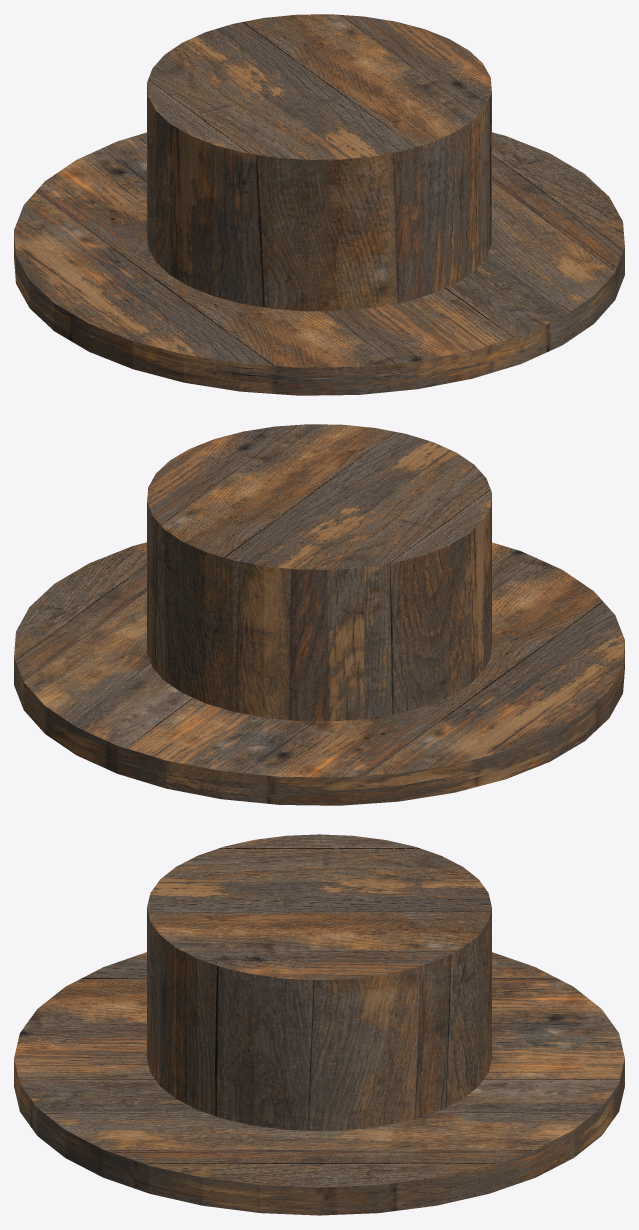
The model's file is KabelRolle.glb.
3 renders of one model, top to bottom at view 1: azimuth 30°, elevation 25°; view 2: azimuth 150°, elevation 25°; view 3: azimuth 270°, elevation 25°, orthographic.
Visible parts, largest first — view 1: Cylinder; view 2: Cylinder; view 3: Cylinder.
Part boxes in pixels (x1,y1,x2,y2): Cylinder: [14, 14, 624, 395]; Cylinder: [14, 424, 624, 805]; Cylinder: [14, 834, 624, 1215].
Bounding box in the file's own units: 2 × 0.6471 × 2.
1 material, 1 textured.
